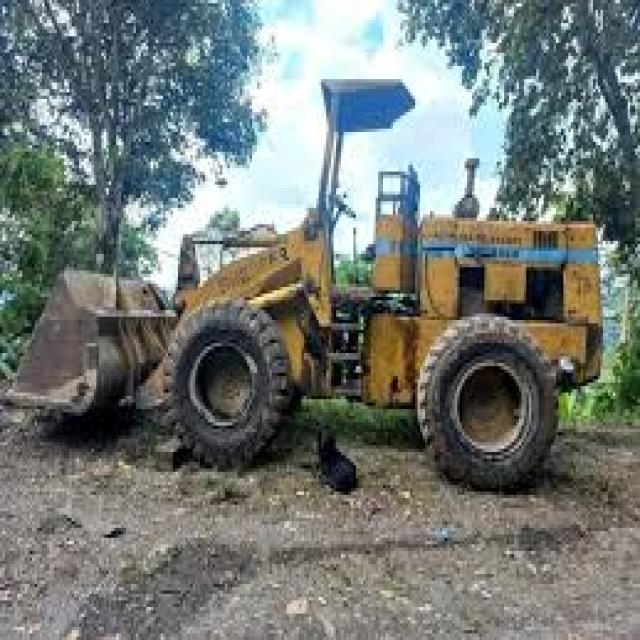bull_dozer/loader/grader: (16, 65, 606, 494)
